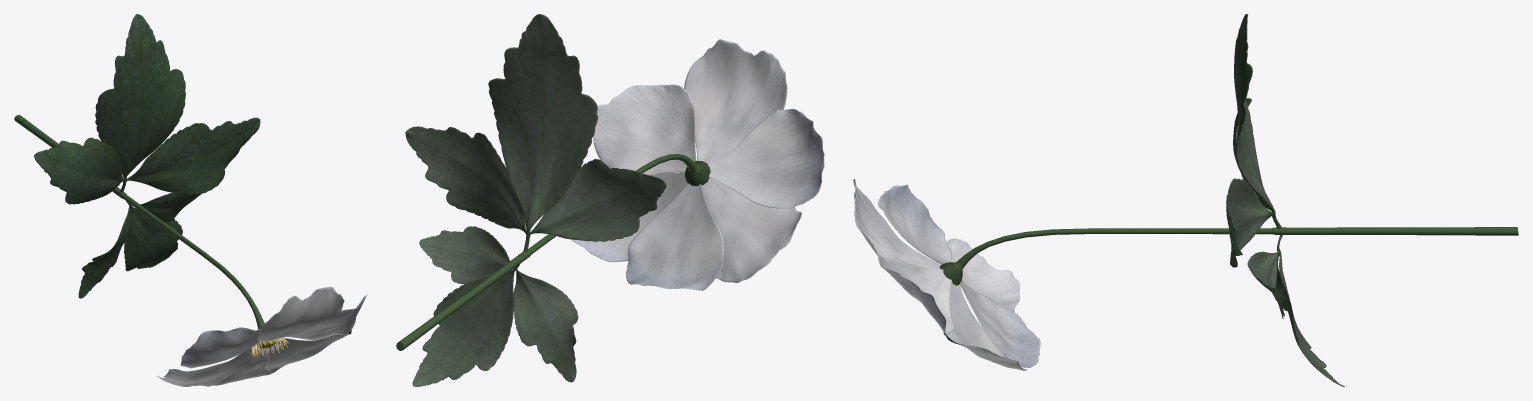
Rendered from 12973_anemone_flower_v1_l2.obj.
3 views of the same model, side by side, from view 1: azimuth 30°, elevation 25°; view 2: azimuth 150°, elevation 25°; view 3: azimuth 270°, elevation 25° (orthographic). The views are drawn at different scales.
Parts seen in each view (by area): view 1: 12973_anemone_flower; view 2: 12973_anemone_flower; view 3: 12973_anemone_flower.
Part boxes in pixels (x1=…): 12973_anemone_flower: x1=14, y1=14, x2=367, y2=386; 12973_anemone_flower: x1=396, y1=14, x2=824, y2=386; 12973_anemone_flower: x1=853, y1=14, x2=1518, y2=386.
Size of the model in its own units: 13.14 by 16.92 by 29.92.
Materials: 1 (1 with a texture image).
